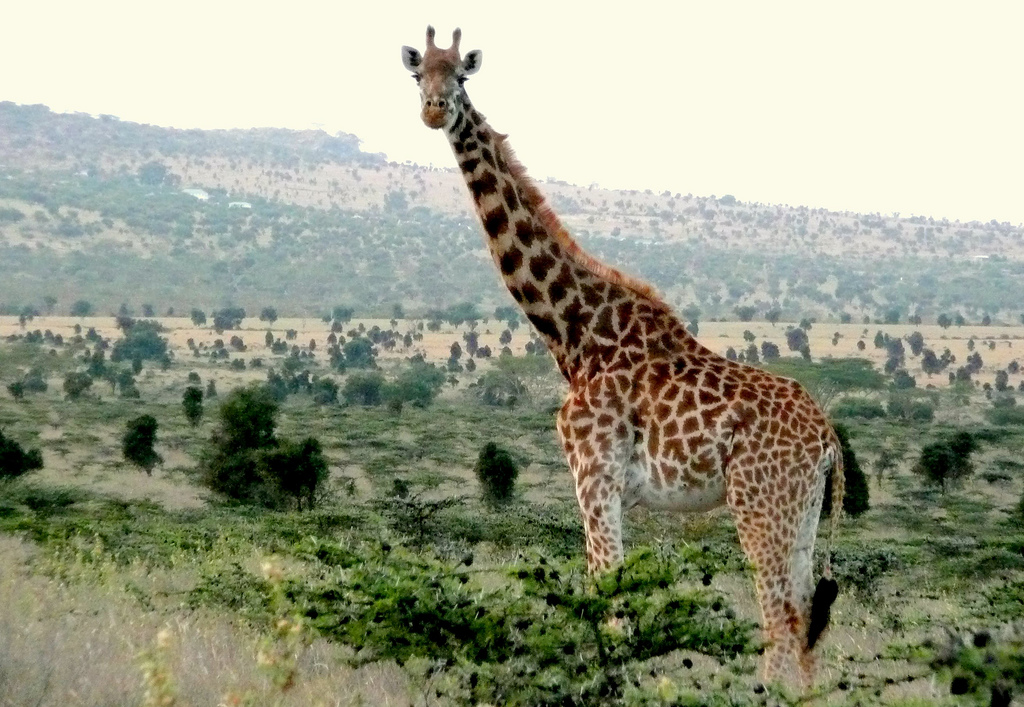giraffe: (372, 24, 855, 672)
